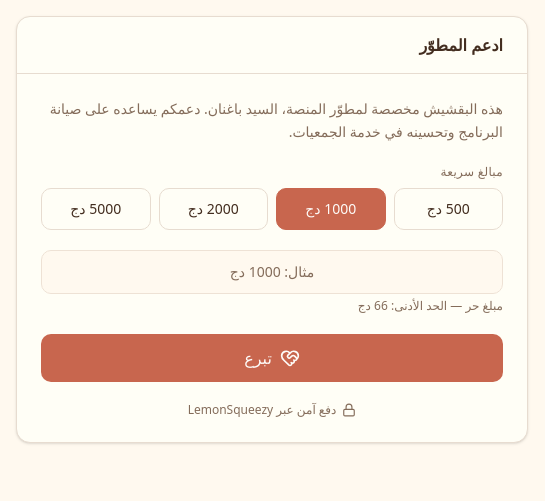
DonationPage › shows an inline error when the checkout fails
This screenshot has width=545, height=501.
Click the button "تبرع" at coordinates (272, 358), box top-left (41, 334), bottom-right (503, 382)
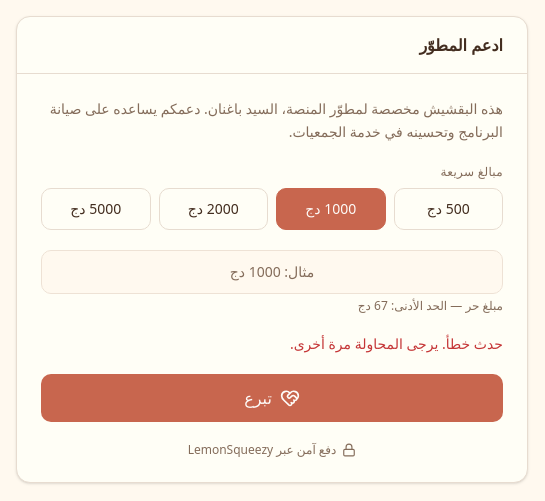
Expected: the text "حدث خطأ. يرجى المحاولة مرة أخرى." is shown, top-left (290, 334), bottom-right (503, 352)
